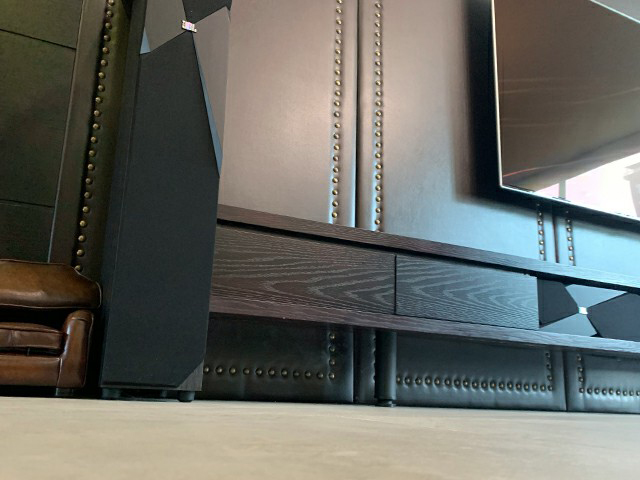cabinet: (208, 204, 639, 408)
sofa: (1, 257, 104, 397)
